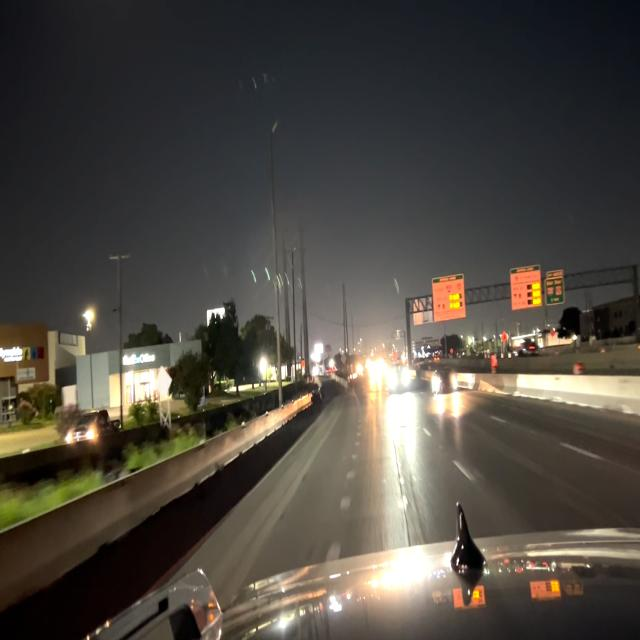back-of-sign: (411, 292, 434, 329)
